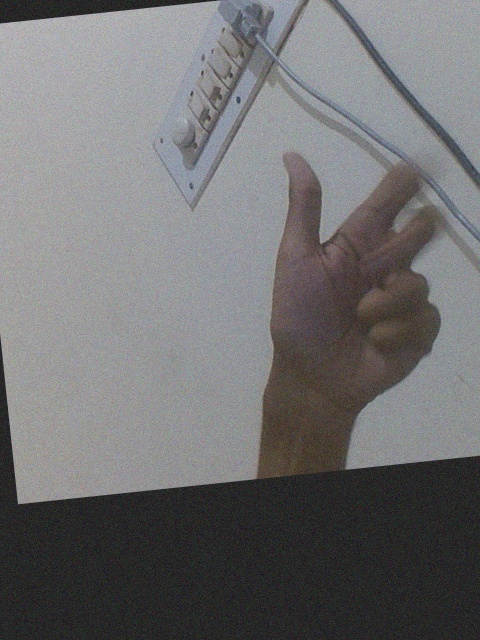hand: (259, 141, 455, 415)
